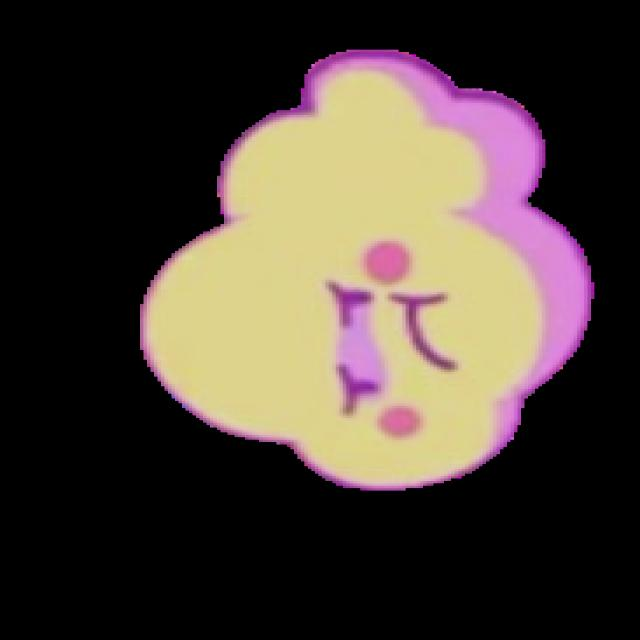Ground Monster - yellow Cloud: (132, 46, 594, 492)
